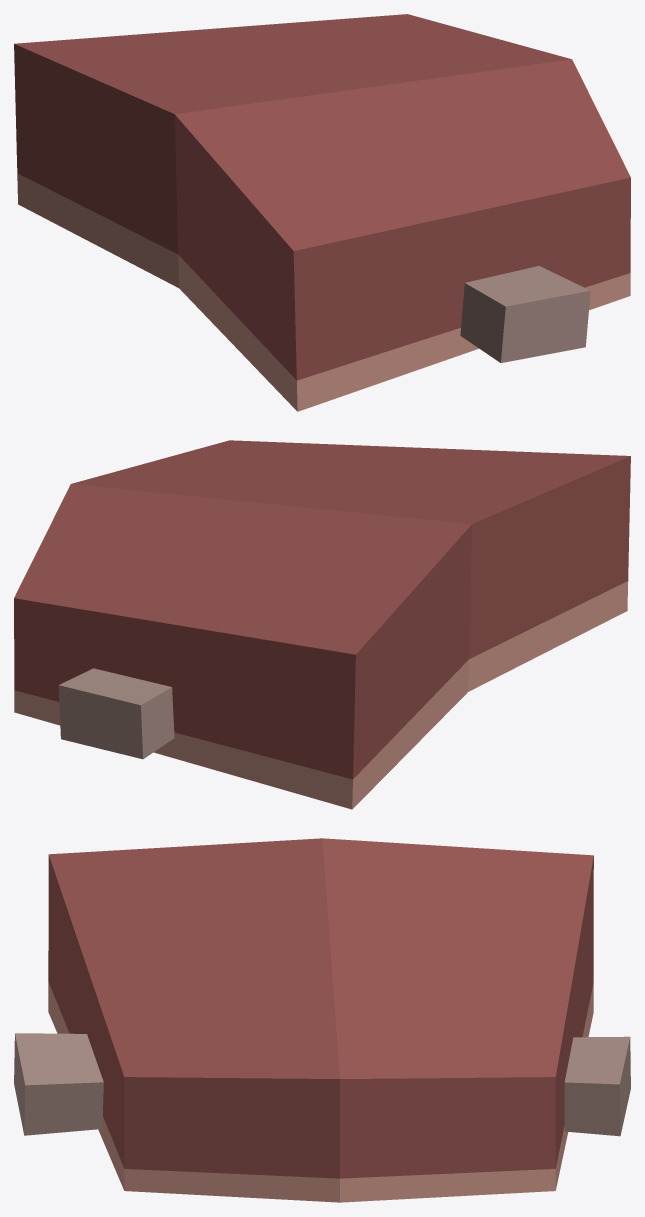
Rendered from porkRibCut01.fbx.
3 views of the same model, one above another, from view 1: azimuth 30°, elevation 25°; view 2: azimuth 150°, elevation 25°; view 3: azimuth 270°, elevation 25° (orthographic). The views are drawn at different scales.
Parts seen in each view (by area): view 1: porkRibCut01; view 2: porkRibCut01; view 3: porkRibCut01.
Part boxes in pixels (x1,y1,x2,y2): porkRibCut01: [14, 14, 630, 411]; porkRibCut01: [14, 440, 630, 809]; porkRibCut01: [14, 838, 630, 1202].
Bounding box in the file's own units: 15.09 × 6.48 × 19.44.
Materials: 1 (1 with a texture image).
